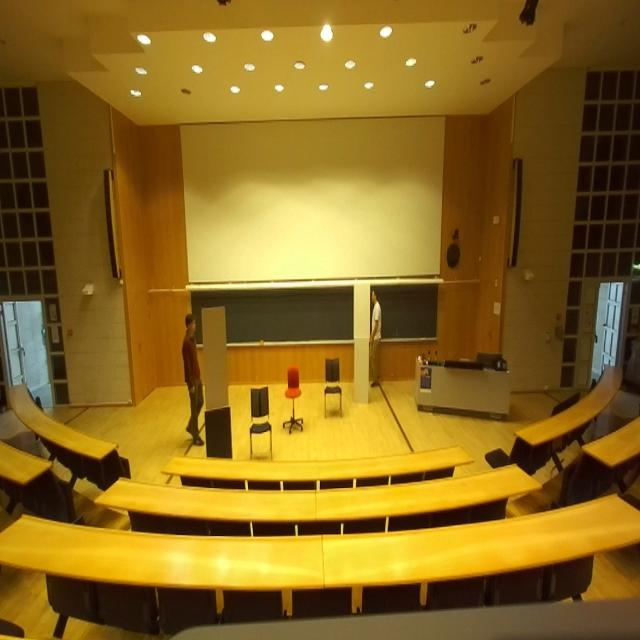person: (182, 314, 204, 446), (369, 289, 381, 388)
